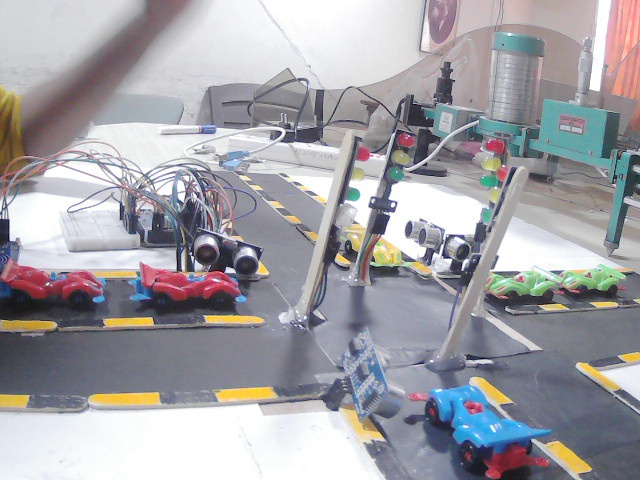car: (408, 379, 551, 480), (132, 263, 244, 310), (1, 262, 105, 311), (345, 226, 408, 272), (492, 270, 558, 302), (562, 267, 624, 299)
traffic_light: (378, 129, 434, 192), (483, 163, 521, 253), (478, 140, 518, 206), (337, 143, 369, 224)
uno_breadboard: (62, 184, 238, 235), (317, 338, 403, 436), (185, 232, 281, 274), (0, 206, 35, 307), (385, 227, 447, 263), (456, 233, 498, 257)
